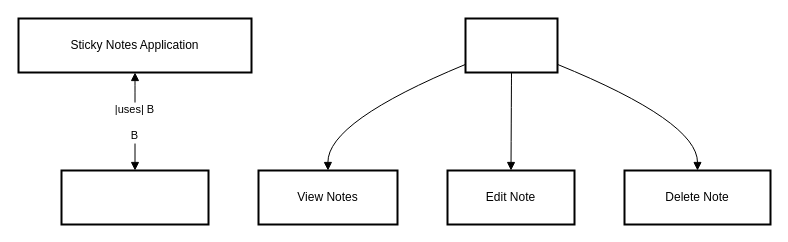
This 788x242 diagram has some shape labels left out. The shapes that lost their labels are listed below. From the top down, each one's box as (x1, y1, x2, y2) in pixels, then its label:
(464, 17, 558, 73): User
(60, 169, 209, 225): Create Note
